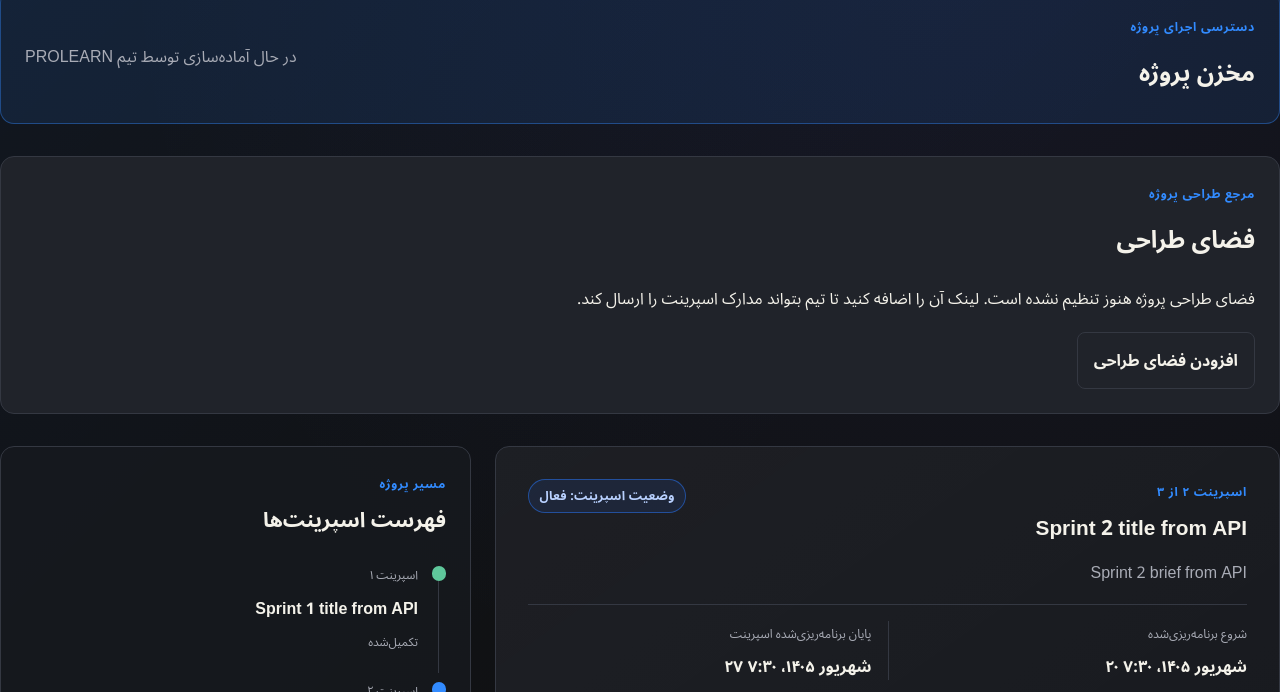
Test case: WorkspacePage › adds a trimmed design URL via the exact PATCH action and re-fetches Workspace
The width and height of the screenshot is (1280, 692).
(page scrolled)
Step 1. Click the button "افزودن فضای طراحی" → (1166, 360), box [1077,332,1255,389]
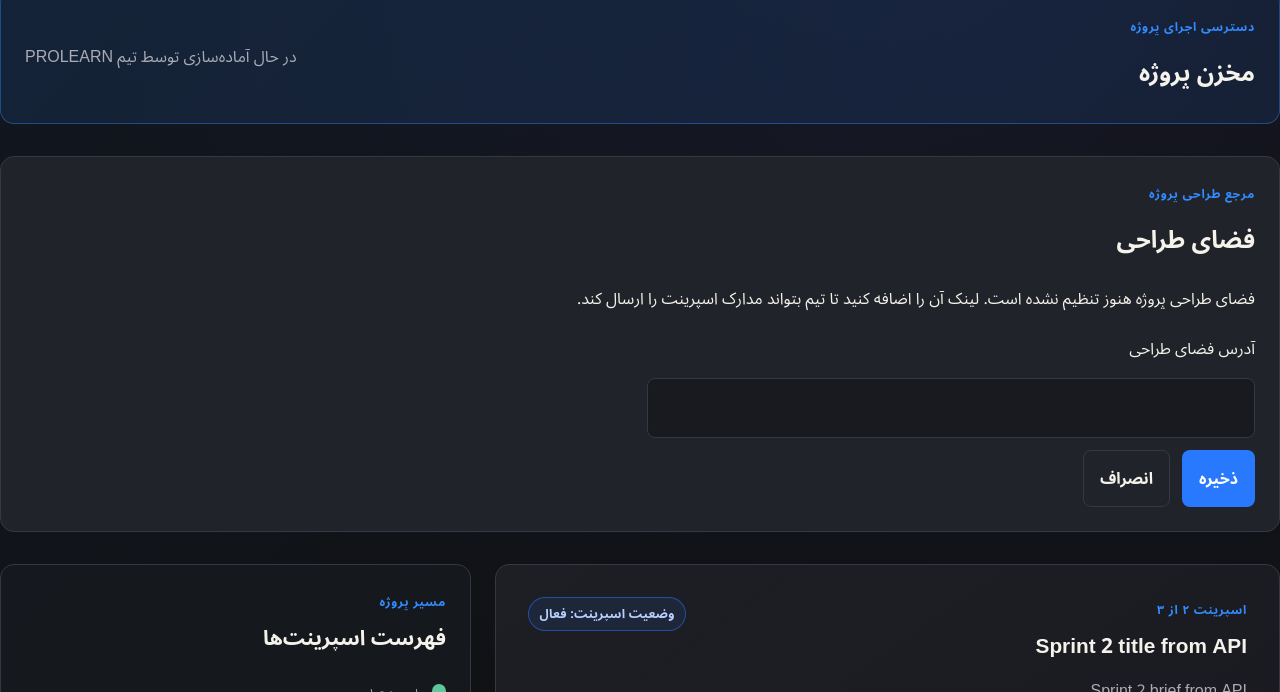
Step 2. Type "  https://design.example.test/new  " into the field labelled "آدرس فضای طراحی" → (951, 408), box [647,378,1255,438]
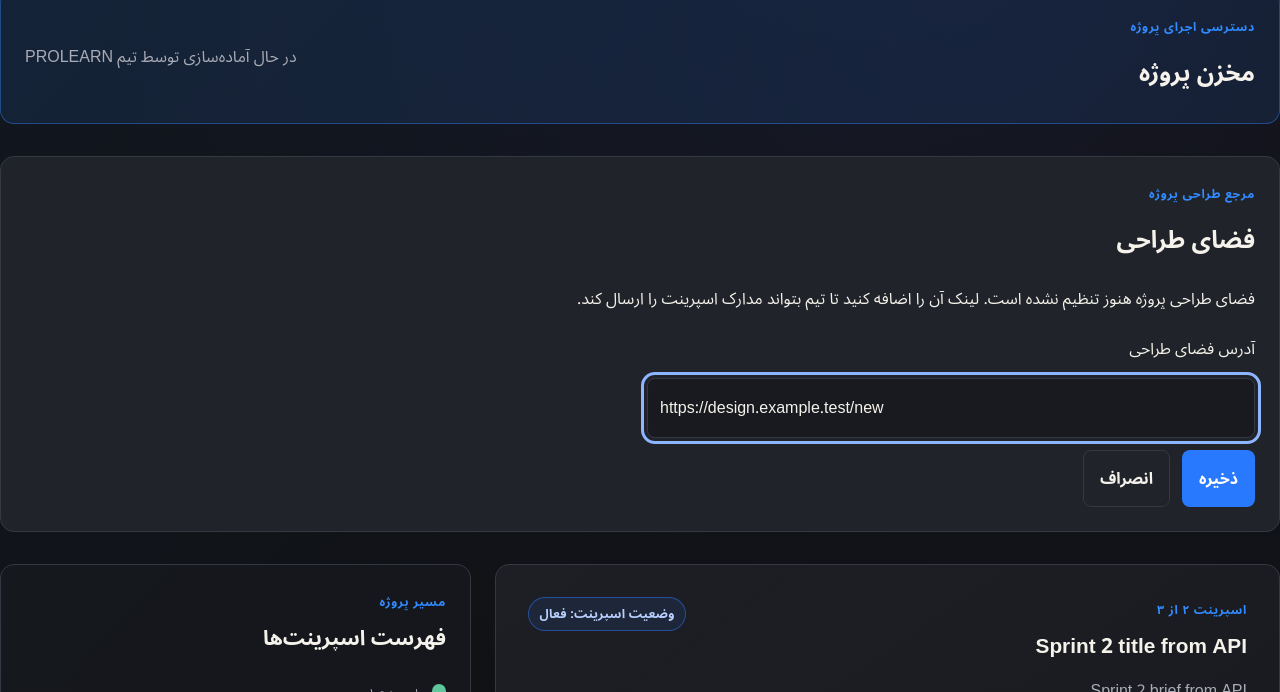
Step 3. Click the button "ذخیره" → (1218, 478), box [1182,450,1255,507]
(page scrolled)
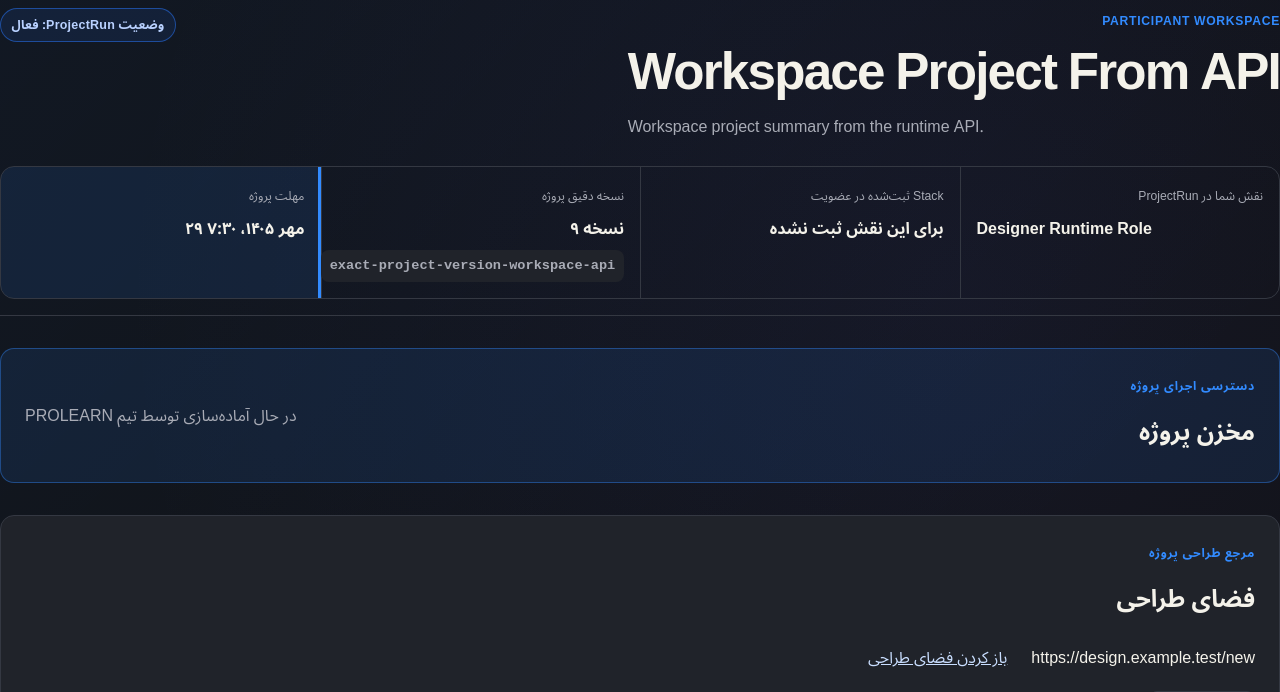
Expected: the text "https://design.example.test/new" is shown, [1031,641,1255,675]
